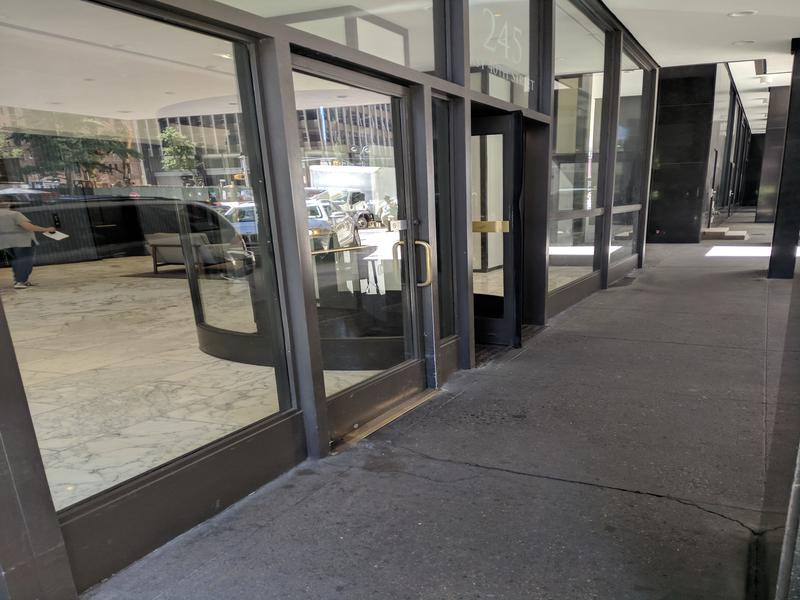door: (288, 36, 451, 427)
